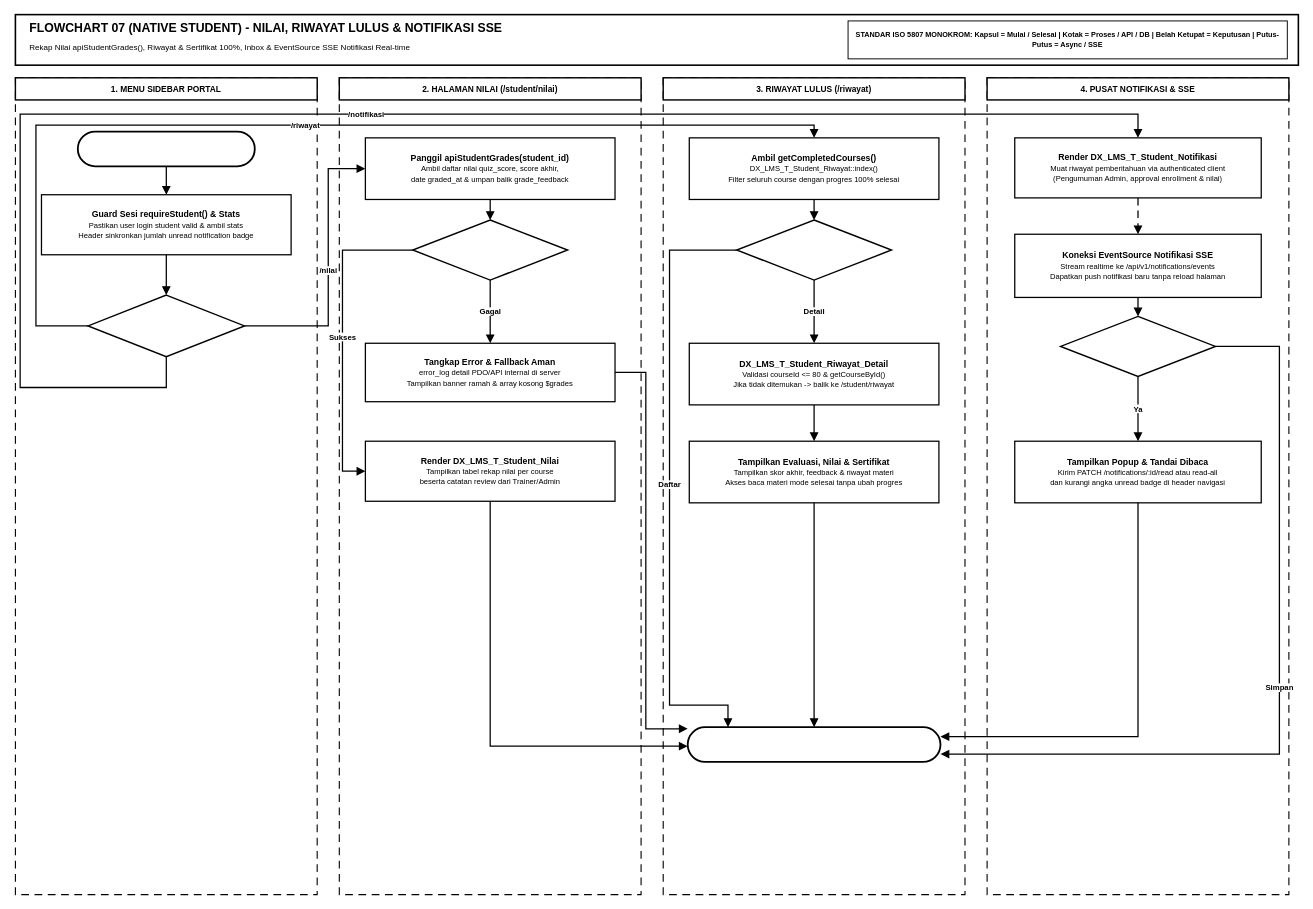
This 1313x909 diagram has some shape labels left out. Each missing label, with the centre of its shape:
"DATA NILAI, RIWAYAT & NOTIF AKTIF" goes at [813,744].
"Klik Kartu Rincian Riwayat?" goes at [814,249].
"Kueri Nilai Berhasil Dimuat?" goes at [490,249].
"PILIH FITUR PORTAL STUDENT" goes at [166,148].
"Terima Event showPopup / Read?" goes at [1137,346].
"Tujuan Menu: Nilai/Riwayat/Notif?" goes at [166,325].
